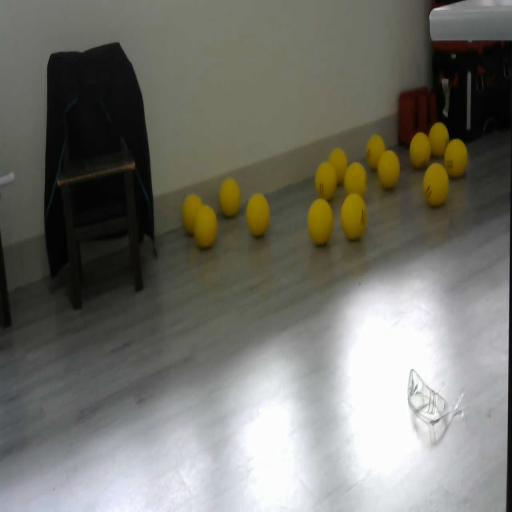FUEL: (340, 193, 367, 241), (422, 162, 450, 207), (307, 197, 333, 245), (192, 202, 218, 249), (245, 192, 271, 238), (218, 176, 241, 218), (444, 138, 468, 178), (377, 149, 400, 189), (343, 162, 367, 198), (409, 132, 431, 169), (328, 147, 348, 185), (428, 122, 449, 157)
